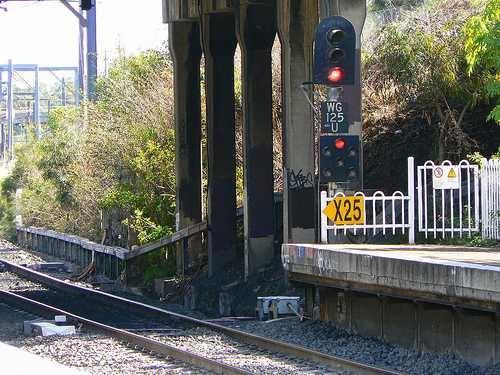red: (323, 24, 351, 83), (324, 66, 351, 86)
